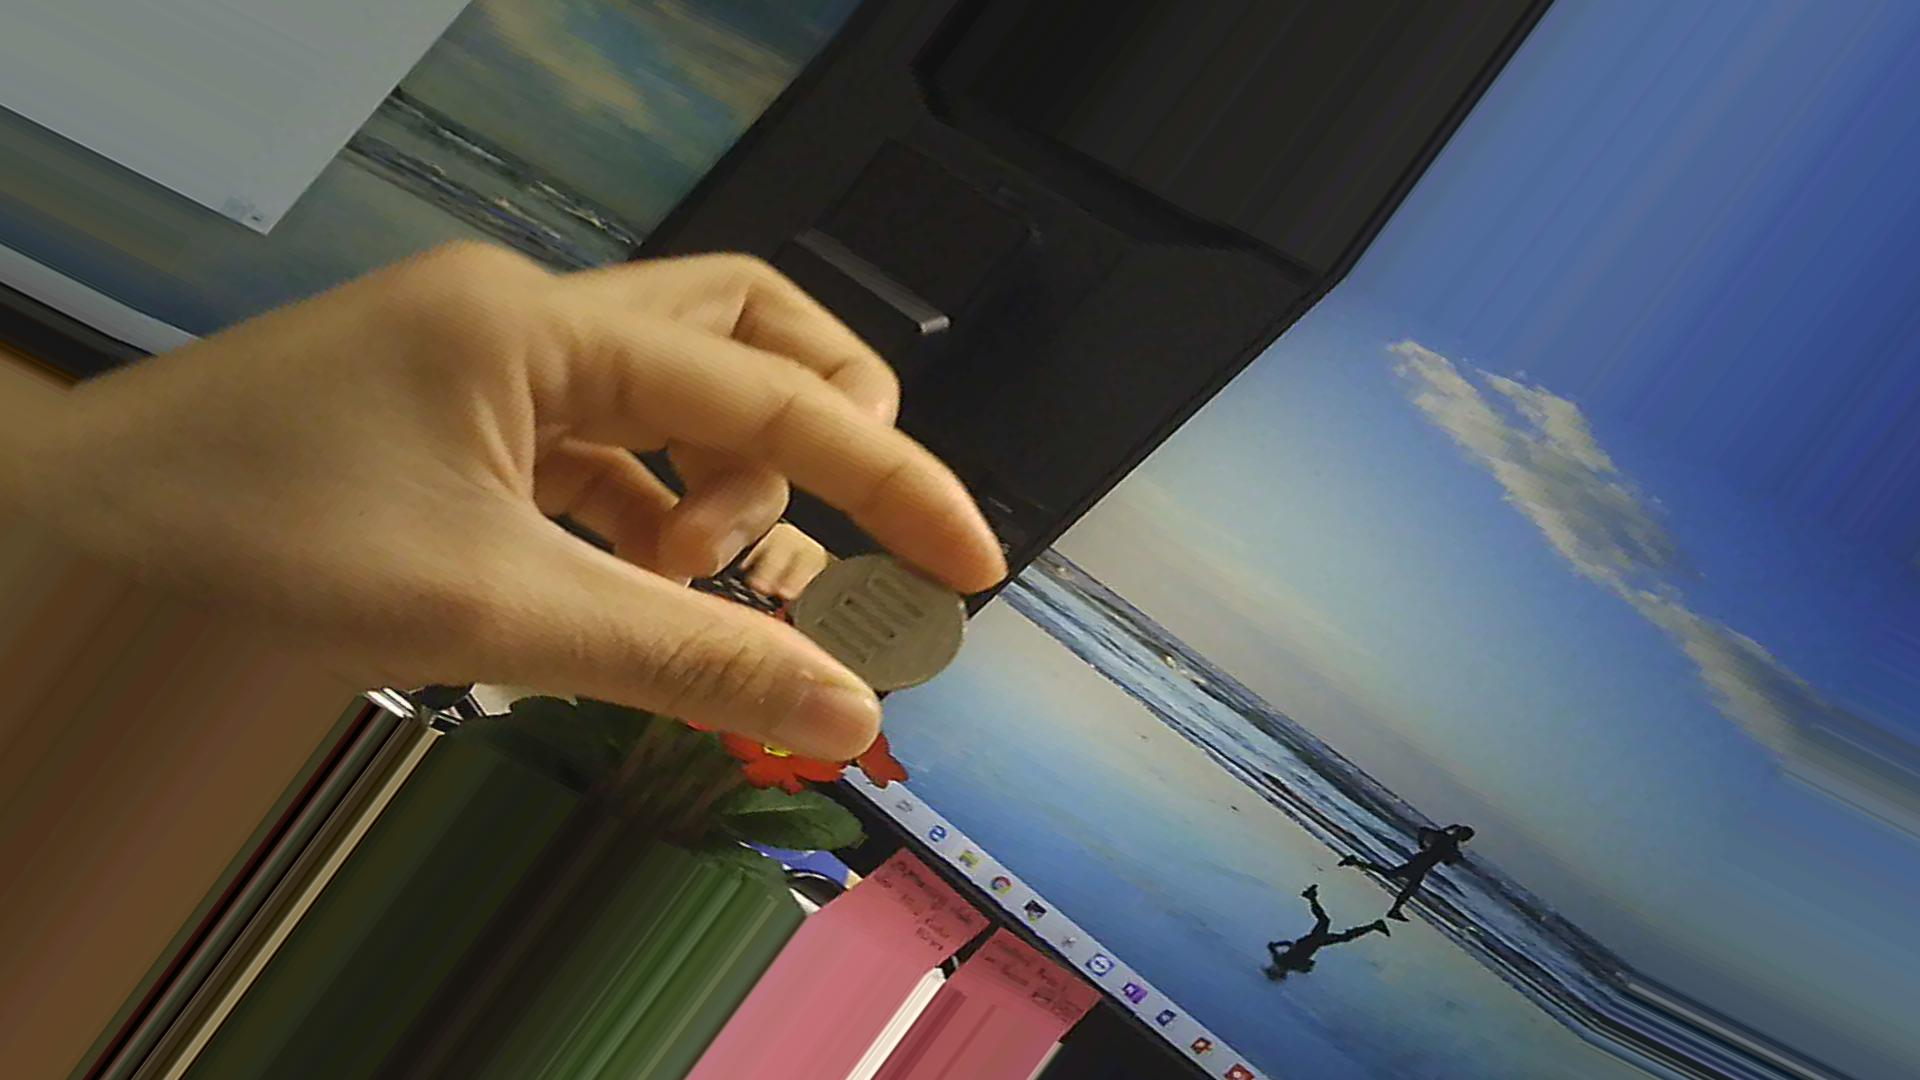100 Yen: (785, 531, 975, 687)
